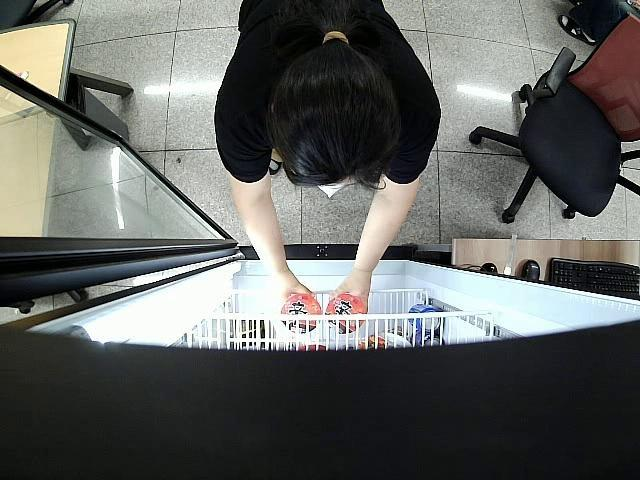02_shinRamen_S: (280, 294, 322, 333), (327, 291, 368, 330)
